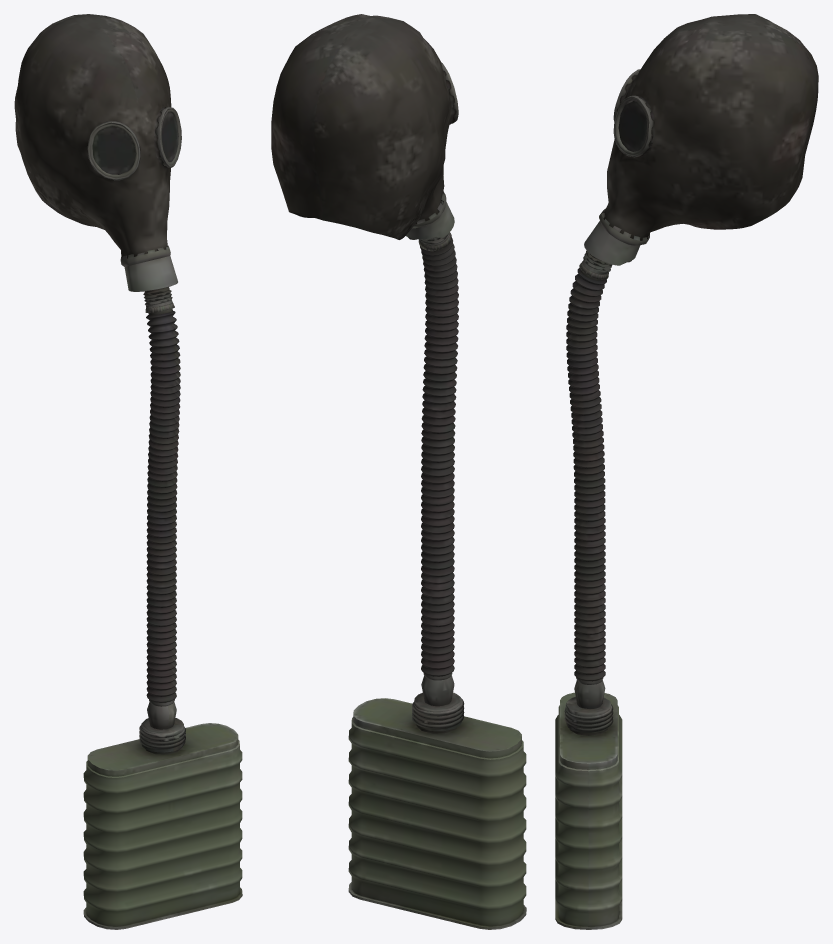
The model's file is old_gas_mask.glb.
3 renders of one model, left to right at view 1: azimuth 30°, elevation 25°; view 2: azimuth 150°, elevation 25°; view 3: azimuth 270°, elevation 25°, orthographic. The views are drawn at different scales.
Parts seen in each view (by area): view 1: old_gas_mask; view 2: old_gas_mask; view 3: old_gas_mask.
Boxes of the visible parts, bbox=[...] form: old_gas_mask: bbox=[14, 14, 242, 929]; old_gas_mask: bbox=[271, 14, 526, 929]; old_gas_mask: bbox=[555, 14, 818, 929].
Bounding box in the file's own units: 0.2105 × 1.13 × 0.3087.
1 material, 1 textured.
